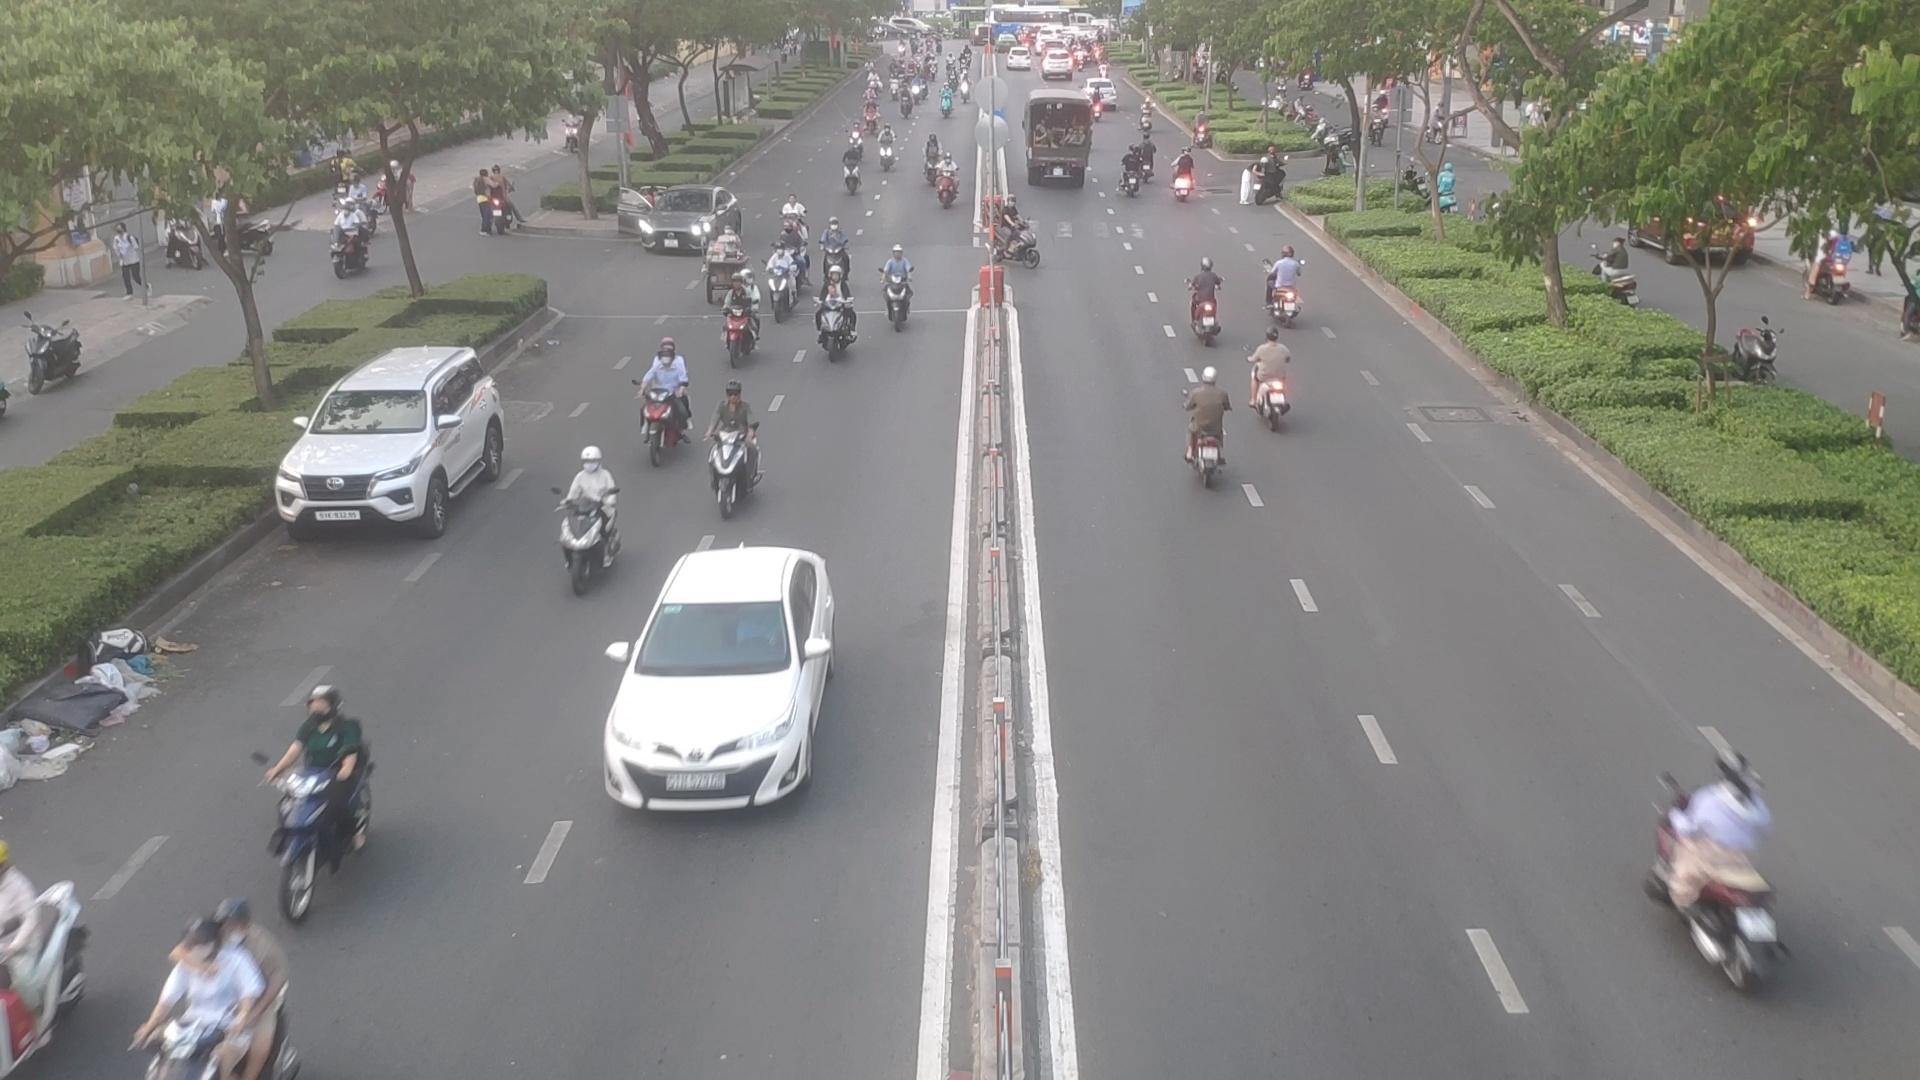car: (593, 545, 837, 808), (272, 347, 512, 537), (622, 189, 740, 258)
motorbike: (1654, 746, 1796, 994), (146, 886, 305, 1080), (0, 833, 109, 1051), (266, 771, 375, 899), (553, 483, 622, 582), (1246, 319, 1303, 425), (644, 336, 698, 446), (711, 381, 760, 500), (1189, 356, 1229, 487), (1269, 231, 1316, 320), (984, 203, 1054, 261), (881, 251, 926, 338), (720, 270, 766, 349), (1182, 262, 1224, 344), (764, 255, 810, 316), (816, 302, 861, 359), (1247, 146, 1287, 204), (823, 208, 855, 280), (1166, 144, 1196, 204), (934, 152, 960, 216), (839, 144, 866, 191), (1120, 144, 1145, 194), (880, 121, 894, 173)
